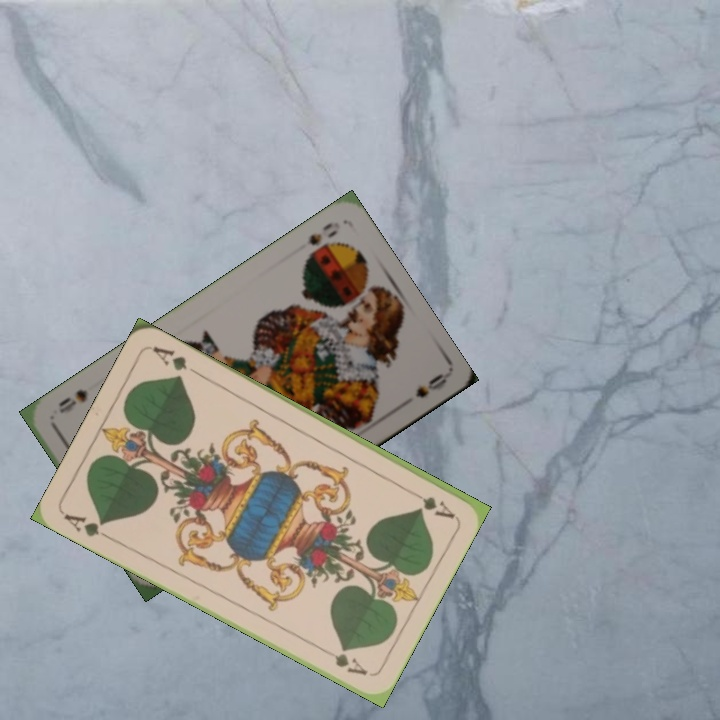GA: (402, 485, 457, 522), (59, 509, 115, 543)
SO: (304, 218, 341, 259)
